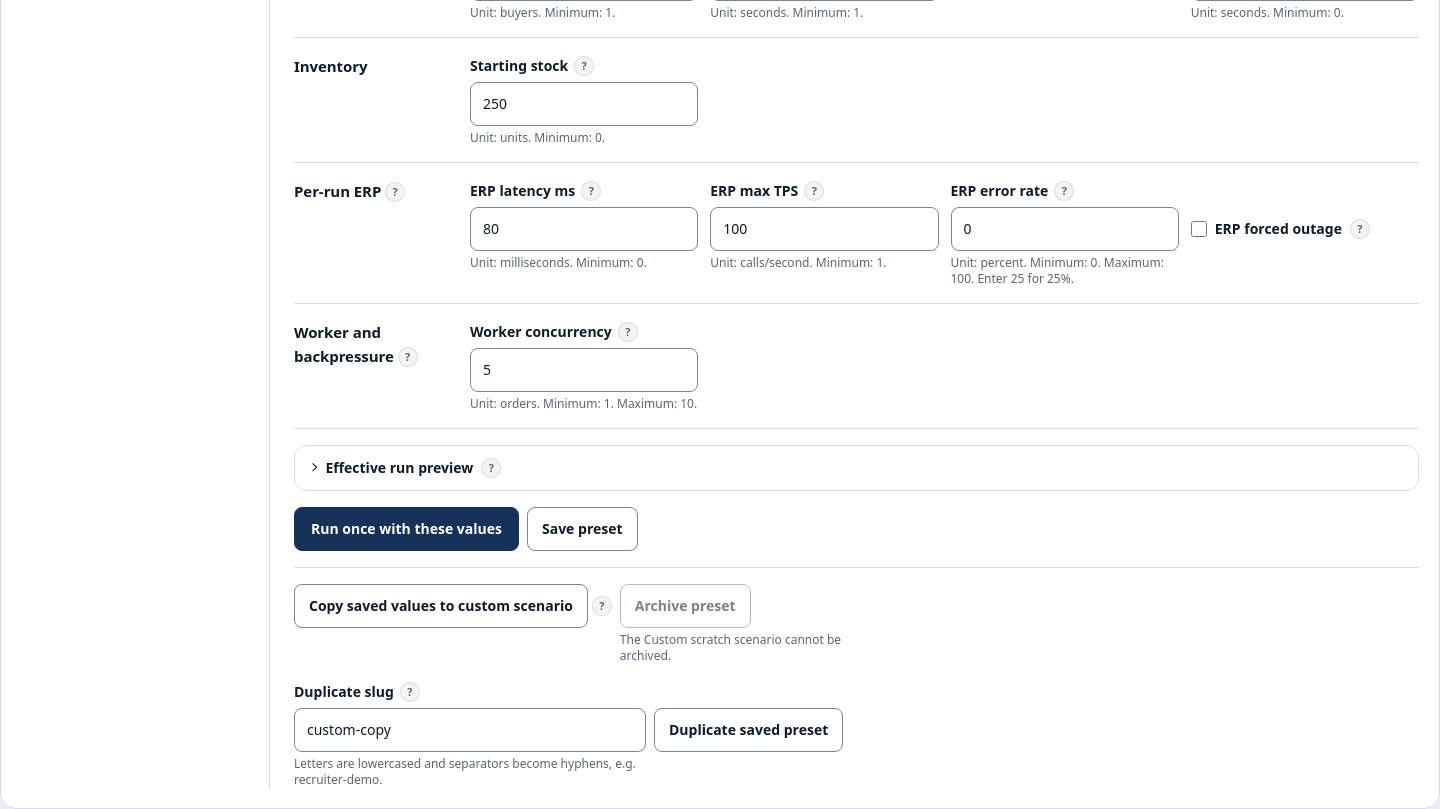
Scenario: admin feature controllers › QA transport: admin start › releases pending after an unavailable response without claiming success or retrying
(page scrolled)
Click the button "Run once with these values" at (406, 528), box x1=294 y1=506 x2=519 y2=550
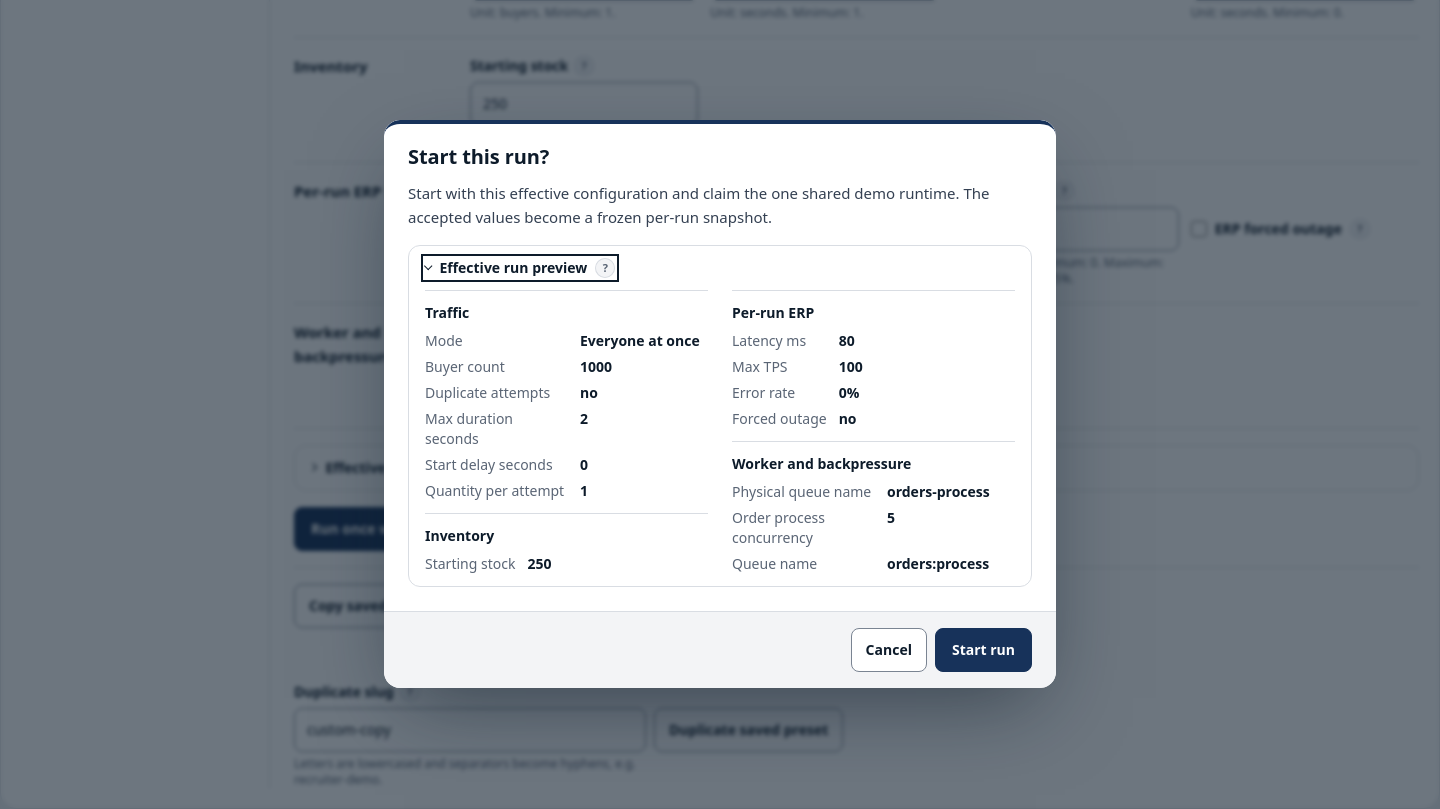
Click the button "Start run" at (983, 650), box x1=935 y1=628 x2=1032 y2=672
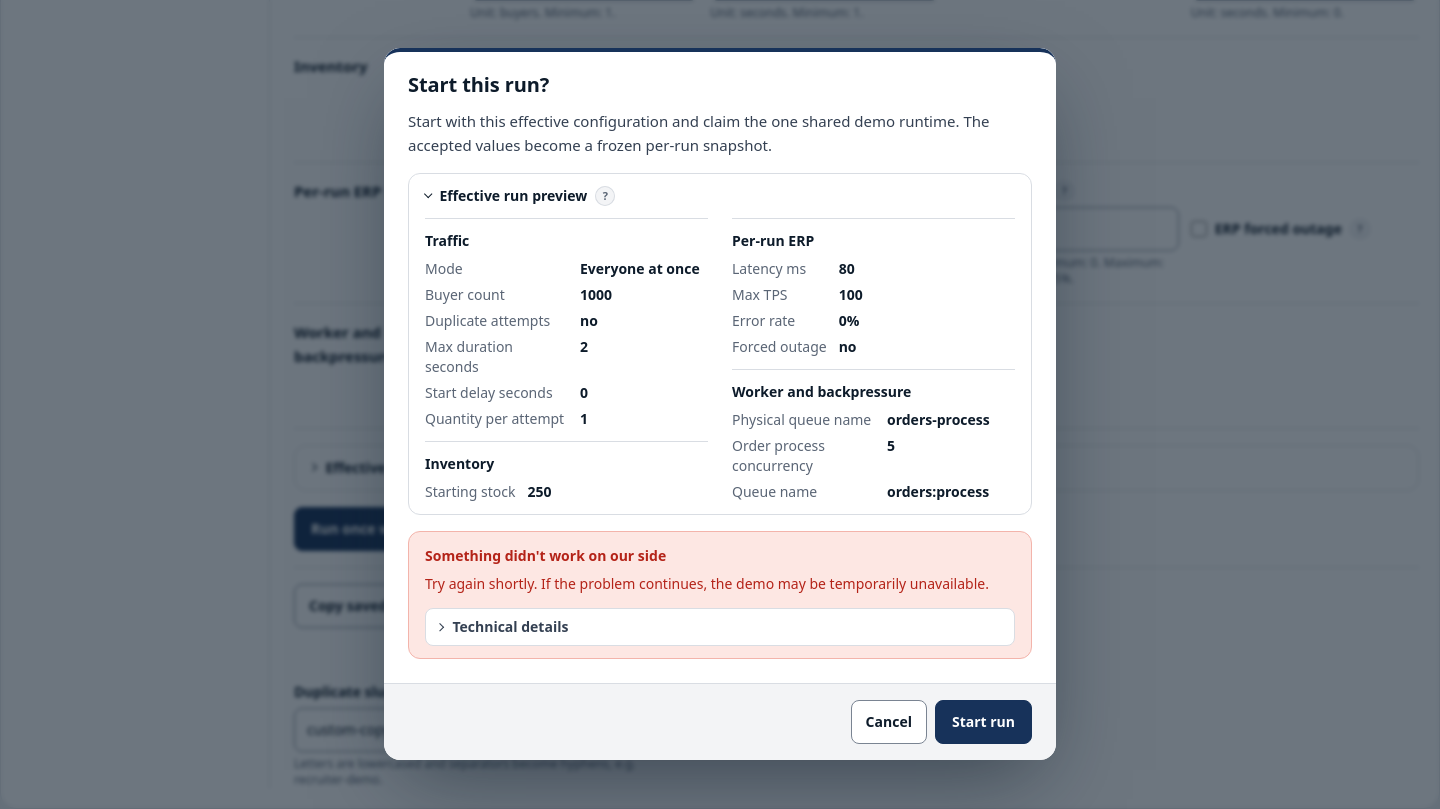
Check: the button "Start run" is enabled, box x1=935 y1=700 x2=1032 y2=744
Check: the message is shown, box x1=408 y1=531 x2=1032 y2=659
